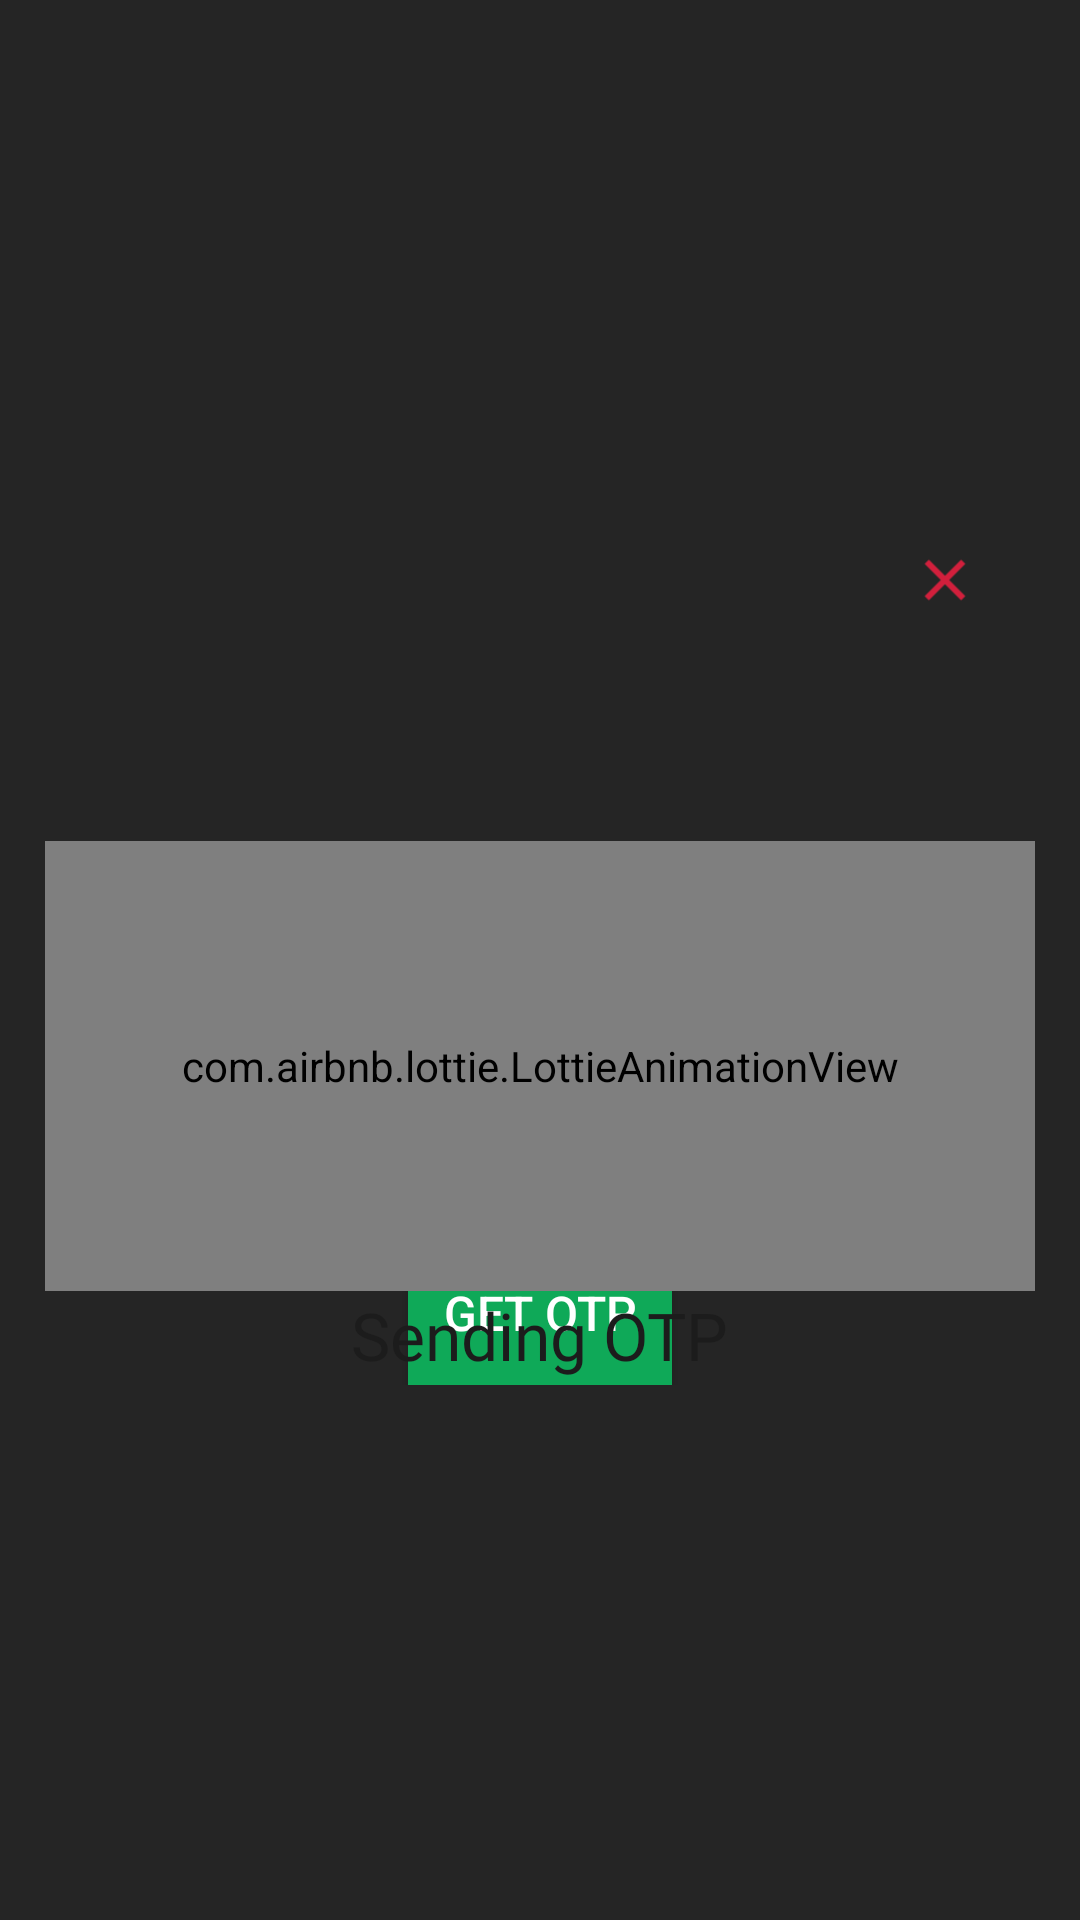

Screen size 1080px x 1920px. Icon name, then its center in pixels as [x,y]:
close: [945,580]
